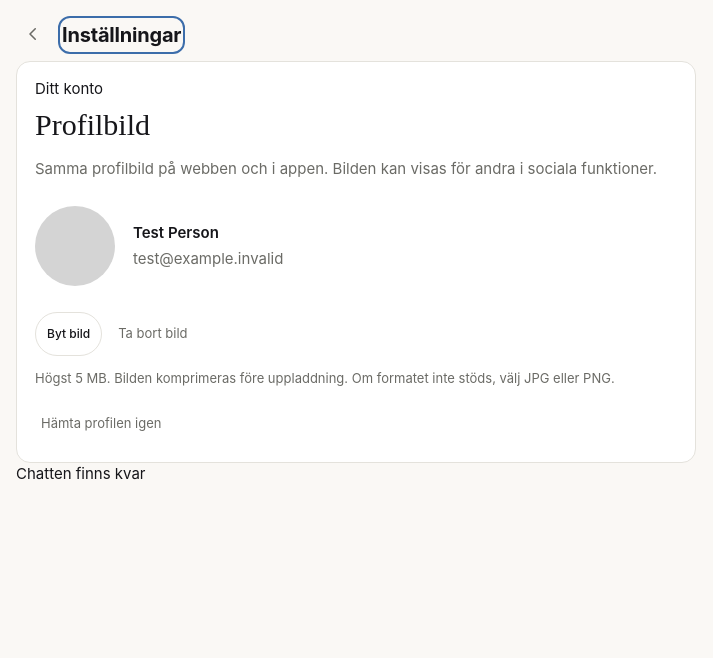
profile picture settings › requires confirmation before deleting and shows success only after the server confirms
The width and height of the screenshot is (713, 658).
Click the button "Ta bort bild": (153, 334) x1=112 y1=312 x2=194 y2=356
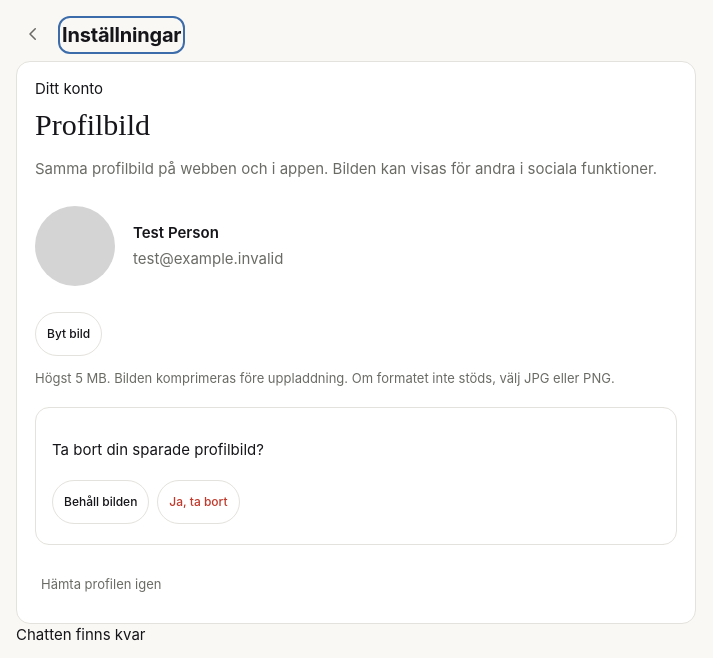
Click the button "Behåll bilden": (101, 502) x1=52 y1=480 x2=149 y2=524
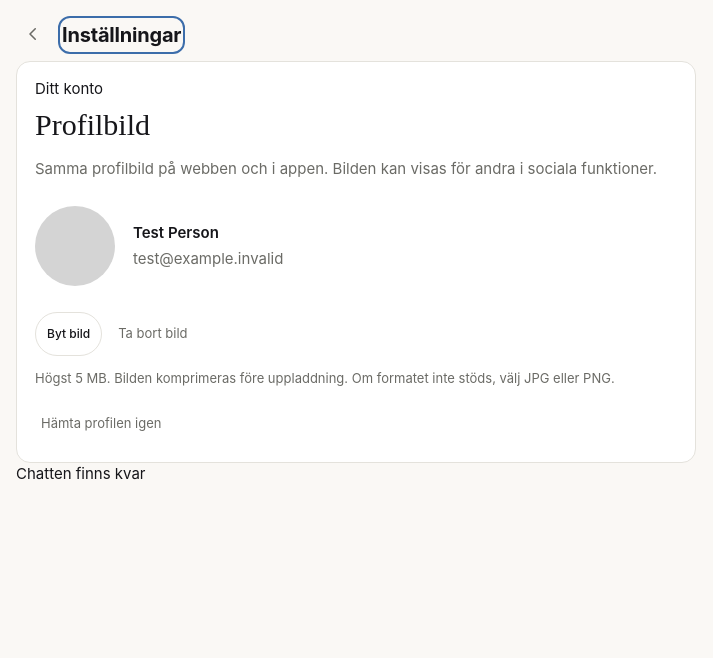
Click the button "Ta bort bild": (153, 334) x1=112 y1=312 x2=194 y2=356
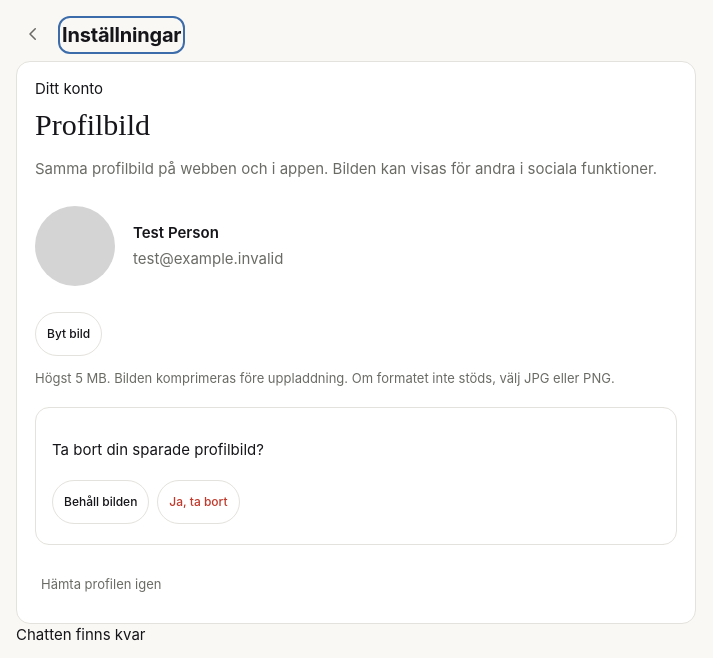
Click the button "Ja, ta bort": (198, 502) x1=157 y1=480 x2=240 y2=524
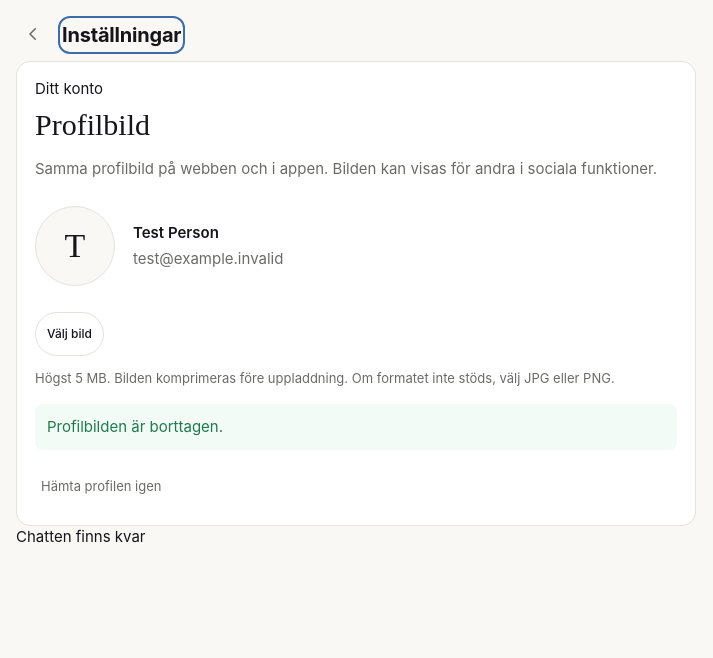
Check: the picture is gone
Check: the text "Profilbilden är borttagen." is shown, box x1=35 y1=404 x2=677 y2=450
